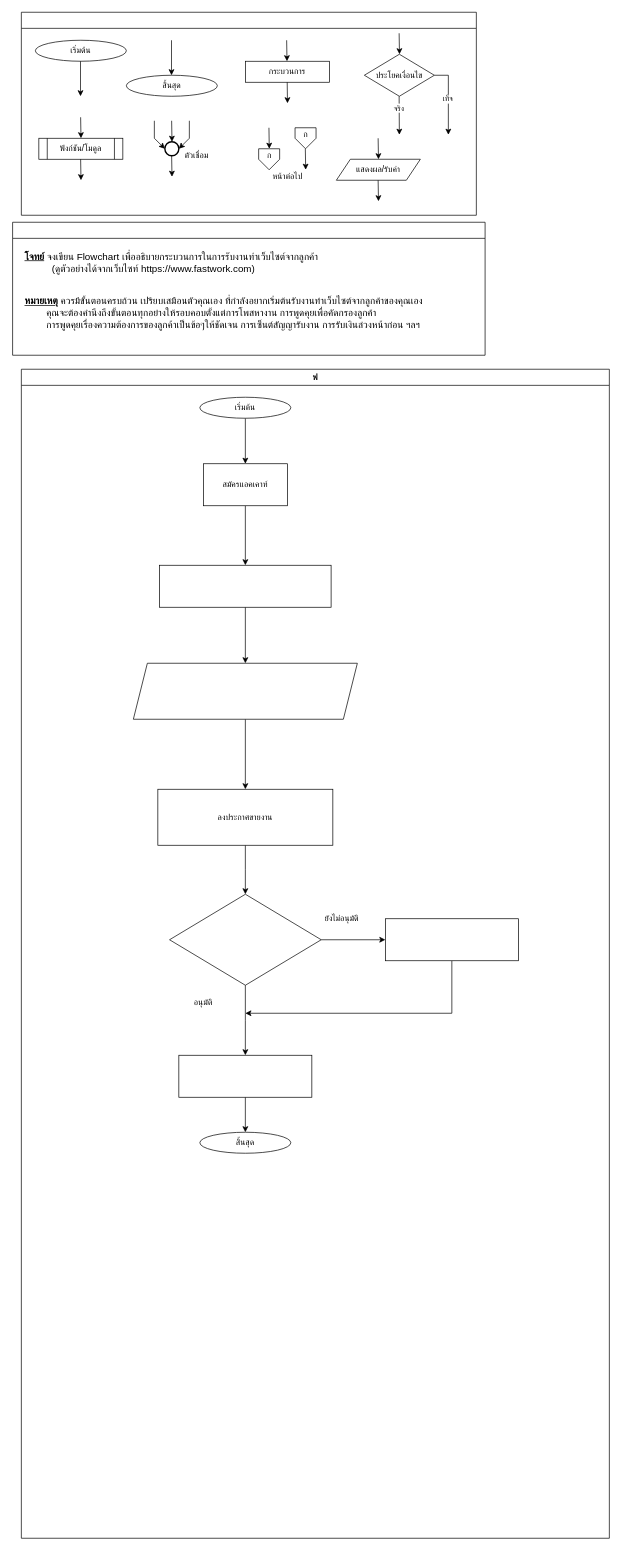
Some shapes in this 622 by 1551 pixel diagram are drawn without their labels. Here are the shapes that lost their labels. From the top down, the box of each, then its label:
(21, 12, 476, 215): ทบทวนสัญลักษณ์
(12, 222, 485, 355): โจทย์ปัญหา
(159, 565, 331, 607): ลงทะเบียนเป็นฟรีแลนซ์
(133, 663, 357, 719): เตรียมบัตรประชาชนและสมุดบัญชีสำหรับยืนยันตัวตน
(169, 894, 321, 985): ได้อนุมัติจากทีมงาน
(385, 918, 518, 961): รอการอนุมัติ
(178, 1055, 312, 1097): เริ่มขายงานได้เลย
